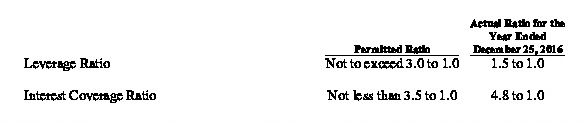table: (0, 0, 588, 122)
